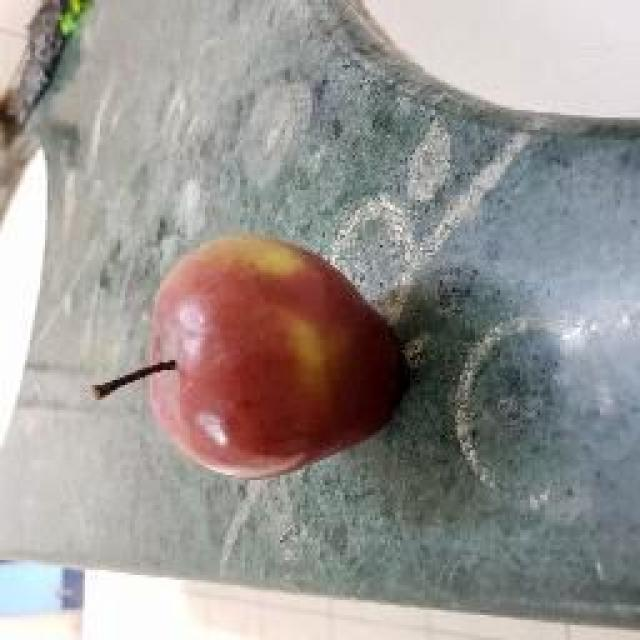Good_Apple: (95, 235, 410, 482)
